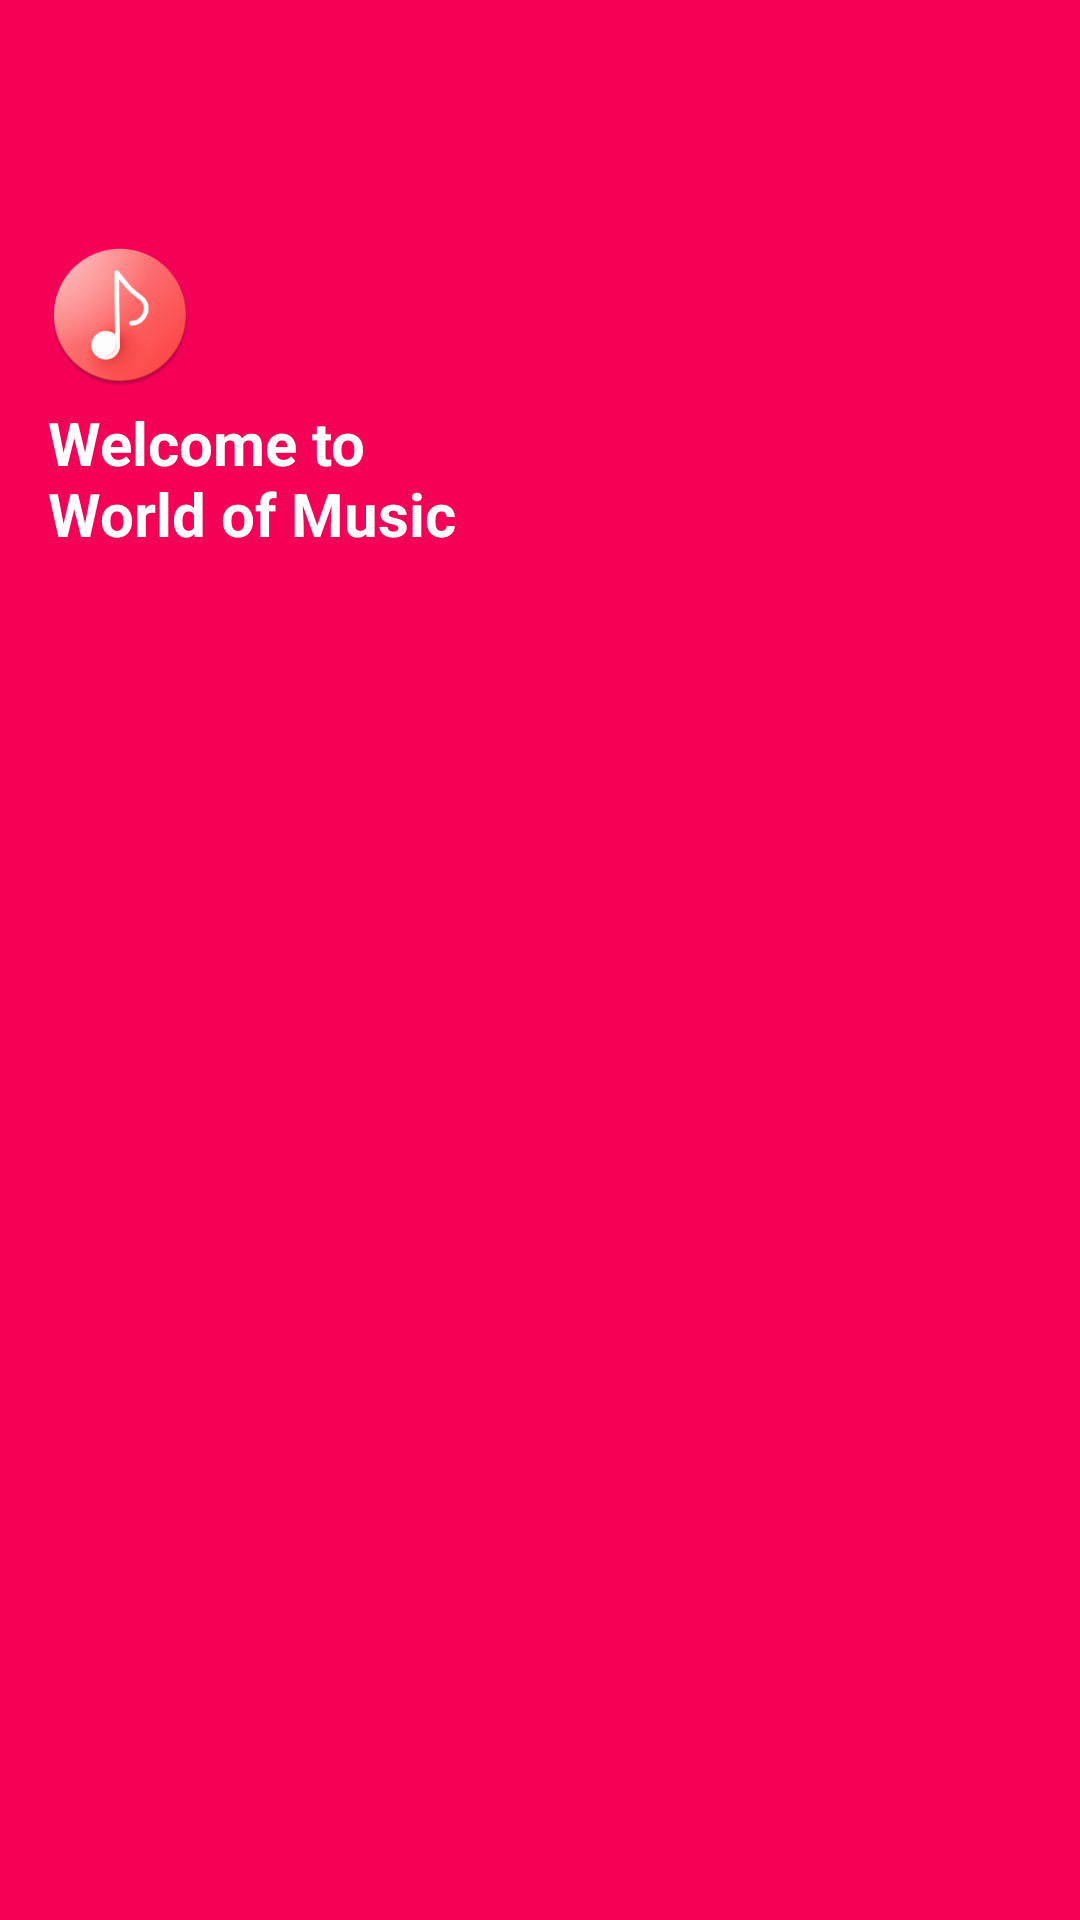

Named icons in this screenshot (1080x1920) and their bounding boxes, [x1=x1, y1=y1, x2=x2, y2=y2]:
music player round: [x1=54, y1=248, x2=187, y2=384]
